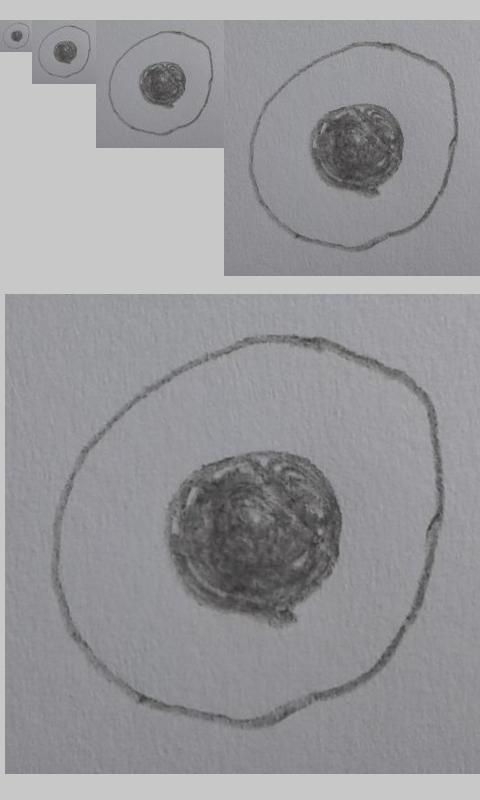radio_button: (46, 330, 446, 733), (247, 39, 459, 253), (107, 29, 215, 136), (36, 24, 92, 79), (2, 22, 31, 50)
